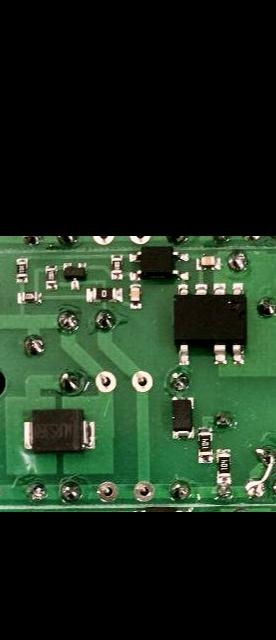chip-capacitor: (193, 256, 220, 272), (127, 284, 142, 312)
chip-resistor: (85, 287, 124, 305), (215, 448, 232, 487), (197, 427, 214, 465), (15, 291, 43, 307), (44, 264, 57, 292), (15, 258, 28, 286), (110, 254, 122, 282)
diode: (21, 410, 97, 454), (169, 396, 194, 442)
ic: (173, 283, 247, 369), (126, 246, 190, 282)
transistor: (61, 261, 88, 291)
